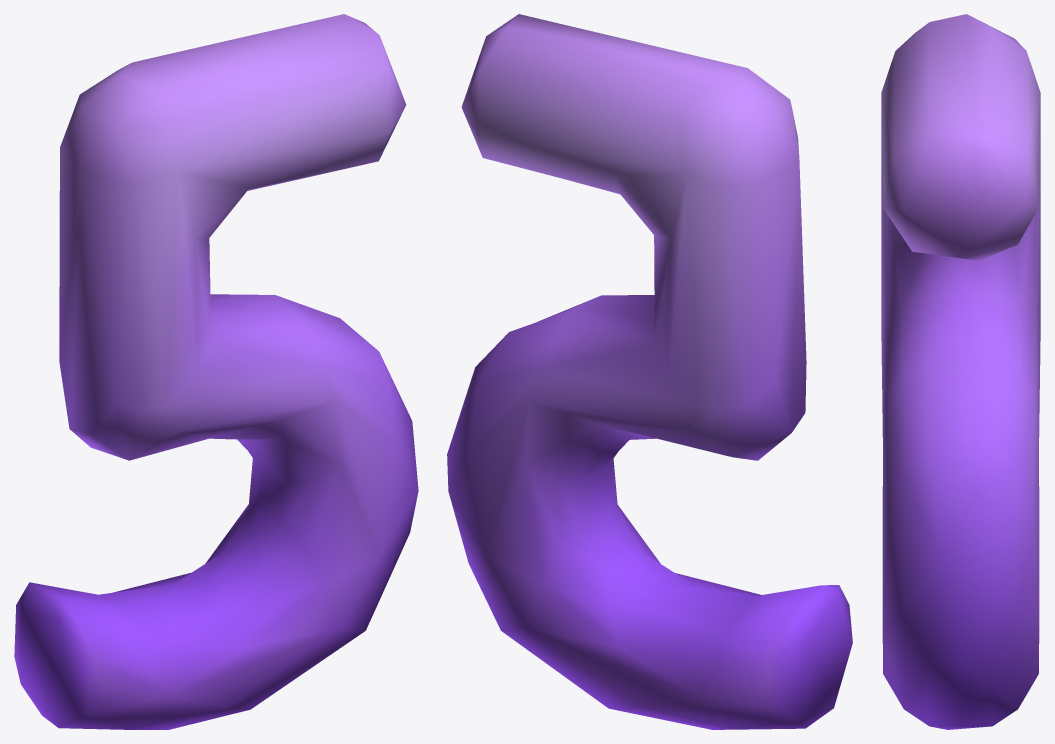
3 renders of one model, left to right at view 1: azimuth 30°, elevation 25°; view 2: azimuth 150°, elevation 25°; view 3: azimuth 270°, elevation 25°, orthographic.
Visible parts, largest first — view 1: Processed_Mesh0_Geometry; view 2: Processed_Mesh0_Geometry; view 3: Processed_Mesh0_Geometry.
Boxes of the visible parts, x1,y1,x2,y2 form: Processed_Mesh0_Geometry: (14,14,418,729); Processed_Mesh0_Geometry: (447,14,852,729); Processed_Mesh0_Geometry: (881,14,1040,729).
Size of what is drawn, in the model's own units: 0.0475 by 0.0813 by 0.0179.
Materials: 1 (1 with a texture image).
